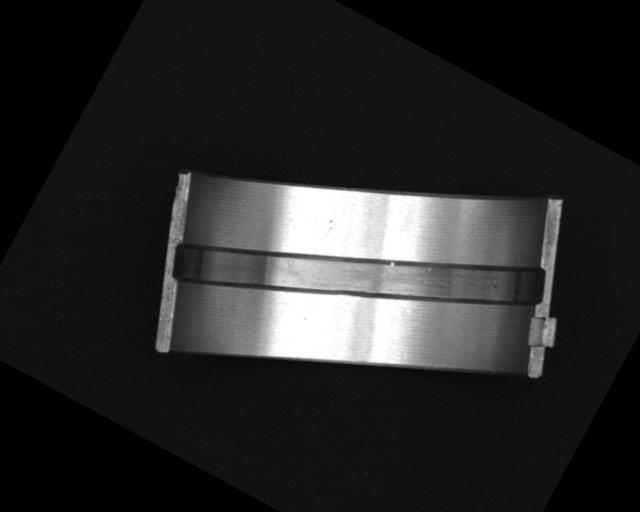gap: (161, 112, 554, 439)
